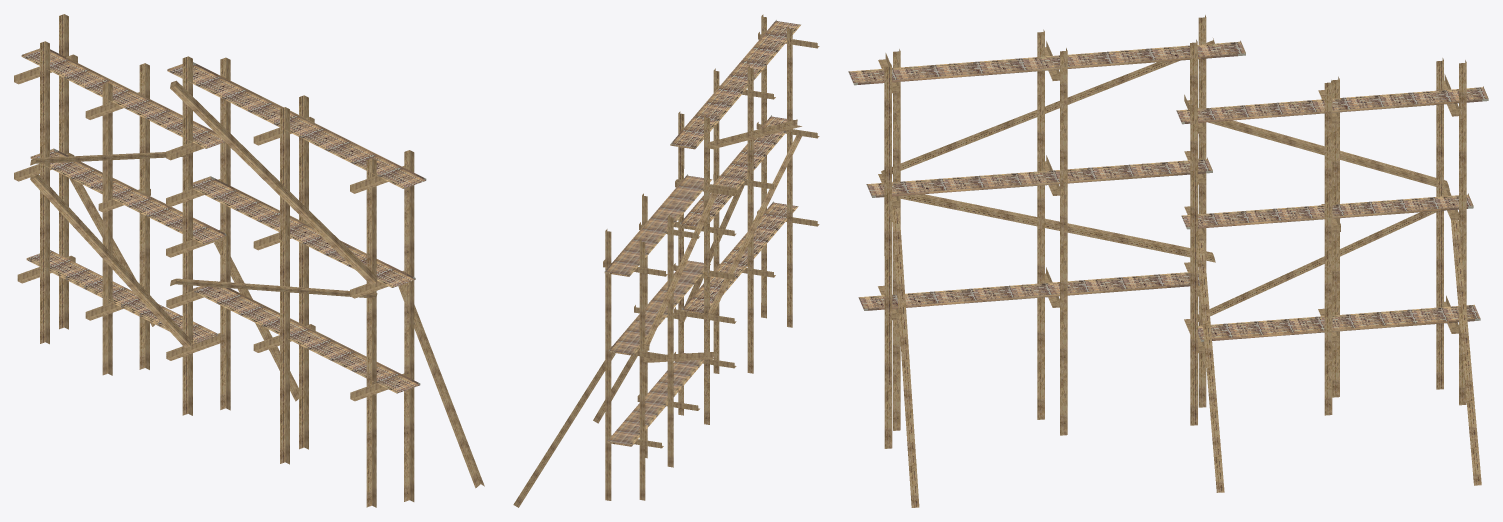
Rendered from stage-maya-p5-7.glb.
The picture shows the model from 3 angles, left to right: view 1: azimuth 30°, elevation 25°; view 2: azimuth 150°, elevation 25°; view 3: azimuth 270°, elevation 25°; orthographic projection. The views are drawn at different scales.
Bounding box in the file's own units: 20.48 × 33.24 × 45.95.
2 materials, 2 textured.
